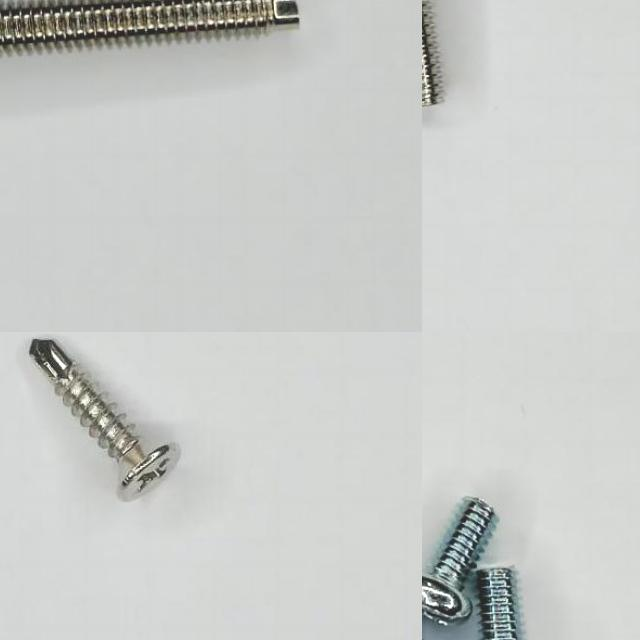Screw: (29, 339, 180, 501), (0, 0, 298, 54), (422, 498, 499, 624), (478, 568, 521, 640)
